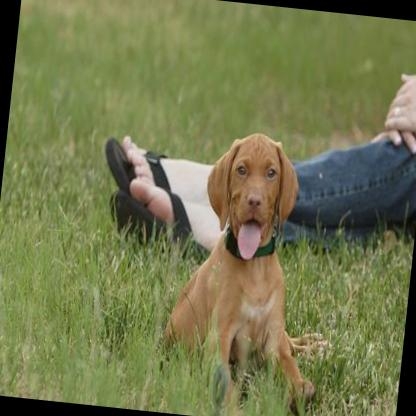vizsla: (153, 122, 349, 416)
